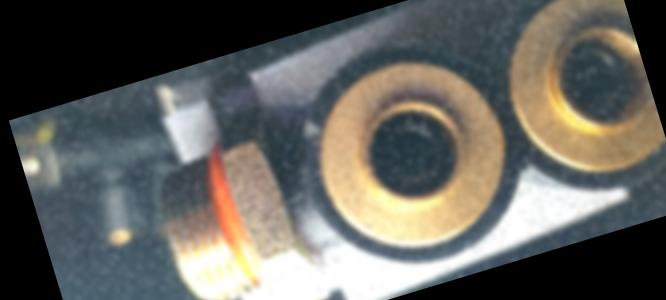bump: (287, 114, 331, 168)
white mark: (283, 194, 306, 213)
